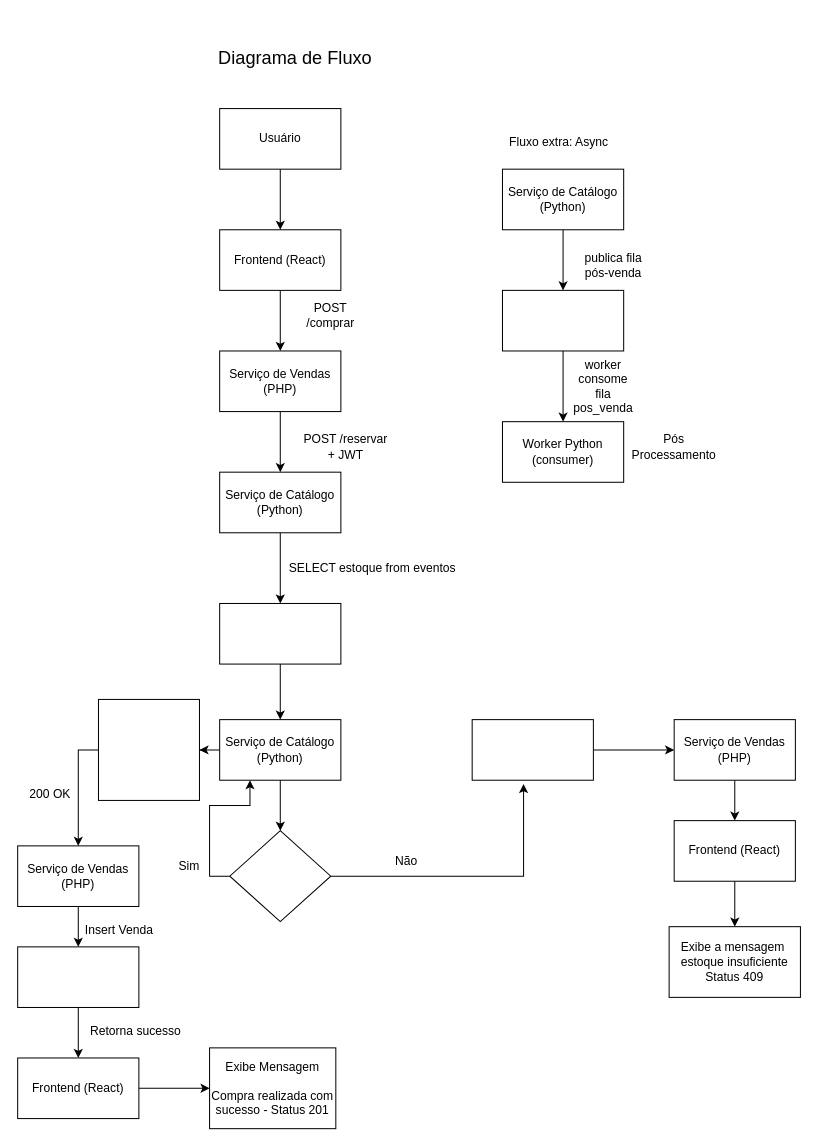
This 818x1146 diagram has some shape labels left out. Here are the shapes that lost their labels. From the top down, the centre of each, then its label:
At pixel 562 320: "RabbitMQ".
At pixel 280 633: "Banco do Catálogo (eventos + reservas)".
At pixel 148 749: "Retorna resultado UPDATE eventos INSERT reserva".
At pixel 532 749: "Retorna 409".
At pixel 280 876: "Há estoque disponível ?".
At pixel 78 976: "Banco de Vendas".
